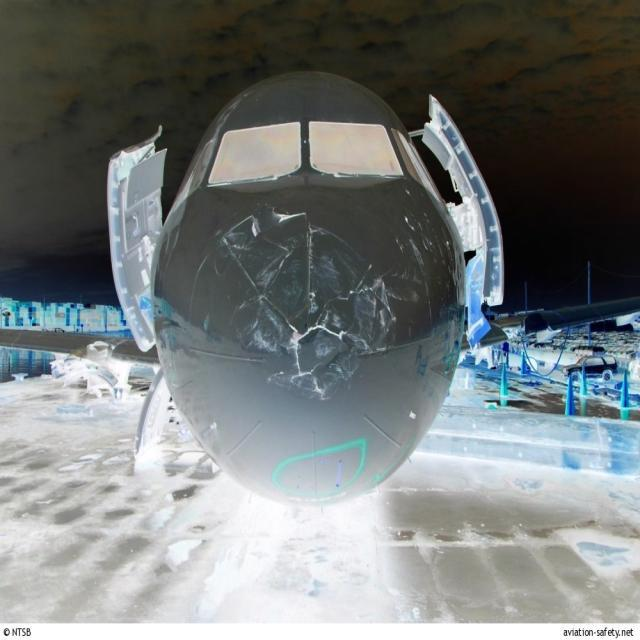crack: (217, 207, 399, 406)
